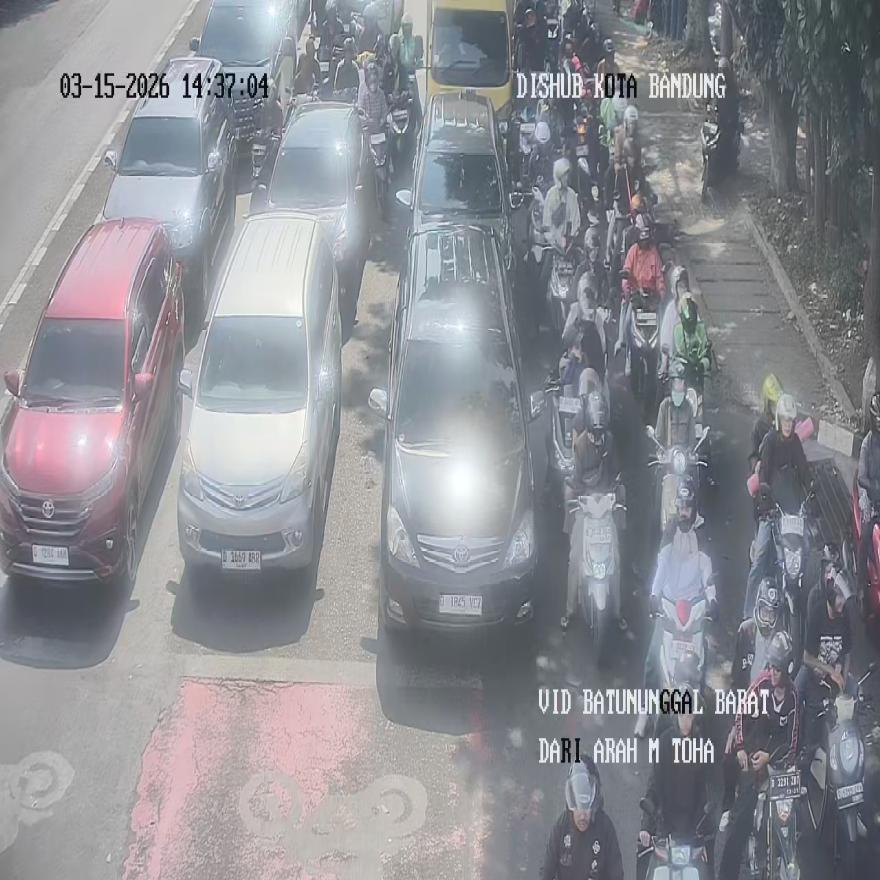Mobil: (368, 224, 544, 639), (0, 218, 188, 583), (177, 210, 340, 576), (102, 56, 236, 318), (250, 101, 376, 309), (395, 89, 520, 269), (189, 0, 304, 164)
Motor: (805, 663, 875, 879), (762, 469, 814, 666), (567, 492, 626, 664), (646, 425, 708, 546), (748, 746, 804, 879), (651, 593, 712, 692), (637, 805, 714, 879), (844, 474, 879, 636), (545, 354, 581, 503), (625, 289, 662, 424), (578, 212, 619, 328), (545, 376, 581, 497), (659, 343, 705, 435), (700, 104, 742, 199), (544, 230, 578, 336), (361, 113, 393, 219), (661, 346, 703, 425), (570, 102, 599, 216), (562, 0, 601, 67), (607, 195, 633, 286), (527, 179, 547, 282), (700, 106, 721, 199), (388, 92, 413, 169), (515, 104, 536, 188), (318, 34, 347, 90), (577, 157, 600, 226), (579, 7, 604, 70), (251, 130, 279, 180), (546, 0, 561, 52), (349, 14, 365, 50), (293, 86, 320, 107), (332, 88, 358, 105), (614, 0, 620, 17)
Truk menengah: (426, 0, 514, 120)
